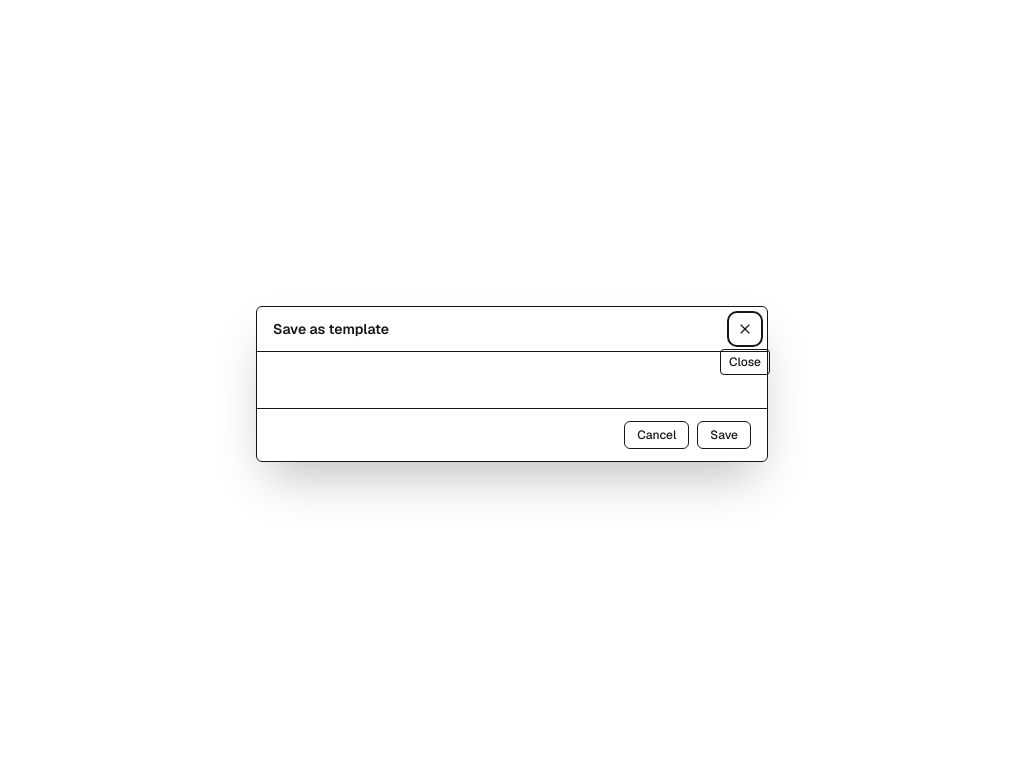
shows another refusal's message and offers no Replace it
Click the button "Save". click: coordinates (724, 435)
box: [697,421,751,449]
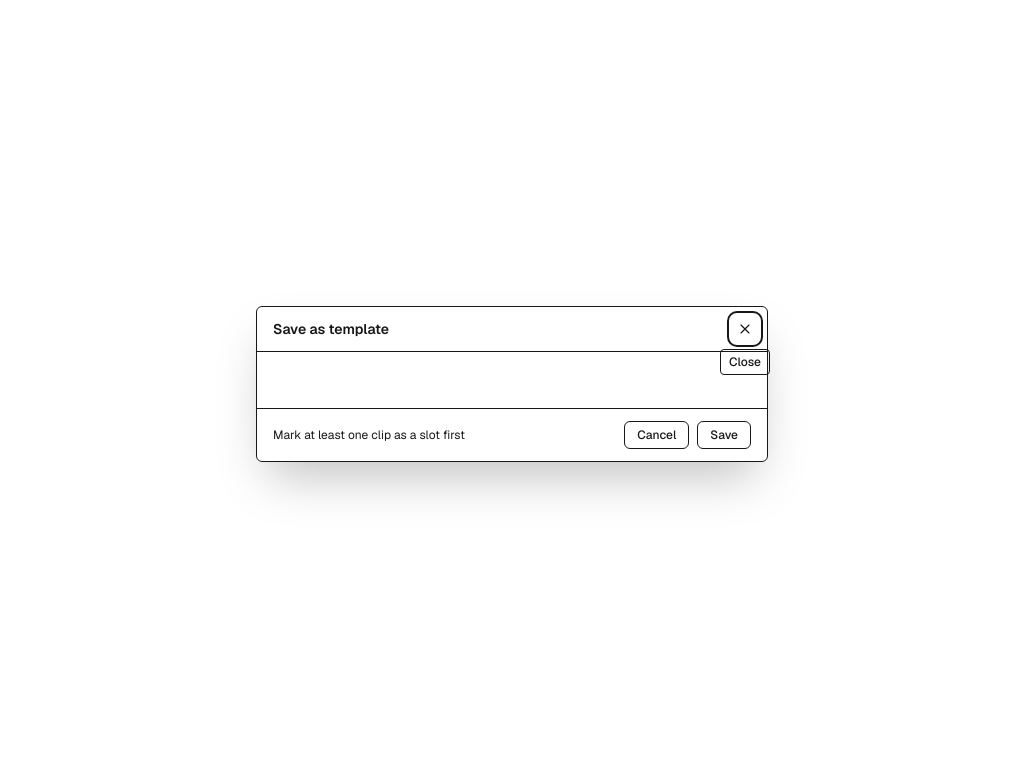
Now the text "Mark at least one clip as a slot first" is shown, box [273,427,465,443]
